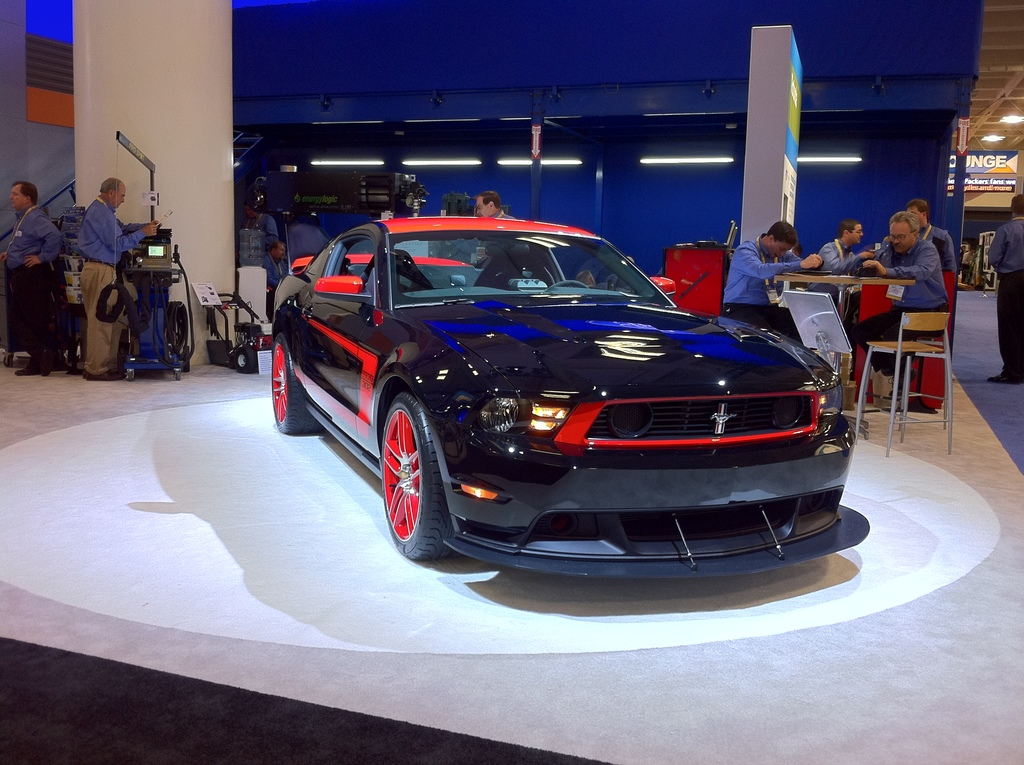Car: (266, 211, 869, 570)
